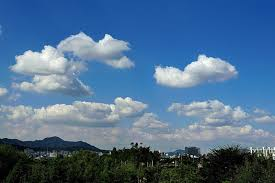forest: (7, 148, 275, 181)
sky: (1, 1, 272, 146)
